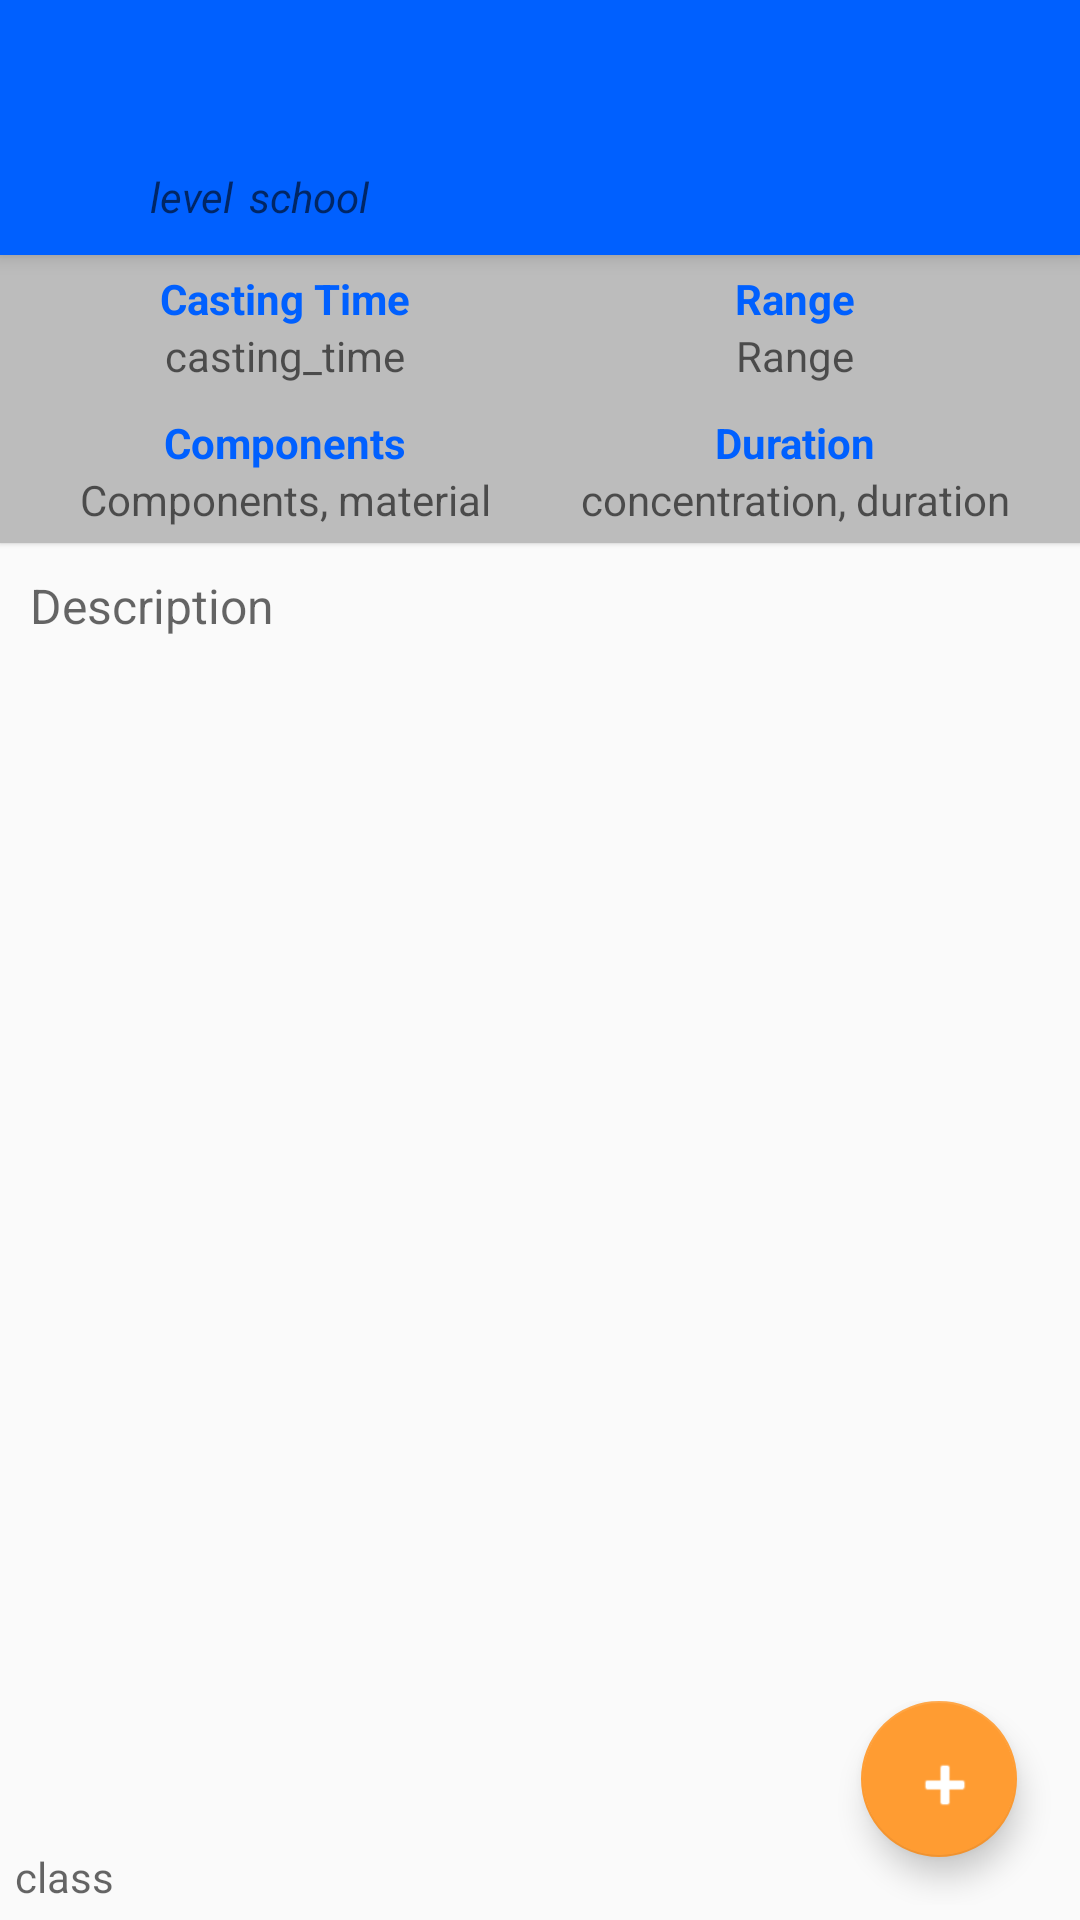

Screen size 1080 x 1920. Icon name, then its box in pixels as (x1, y1, x2, y2):
add: (861, 1701, 1017, 1857)
